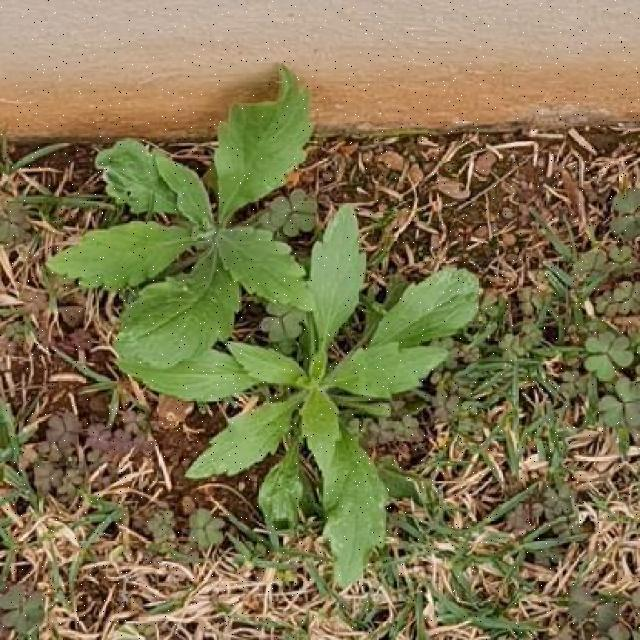weed: (46, 69, 480, 585)
